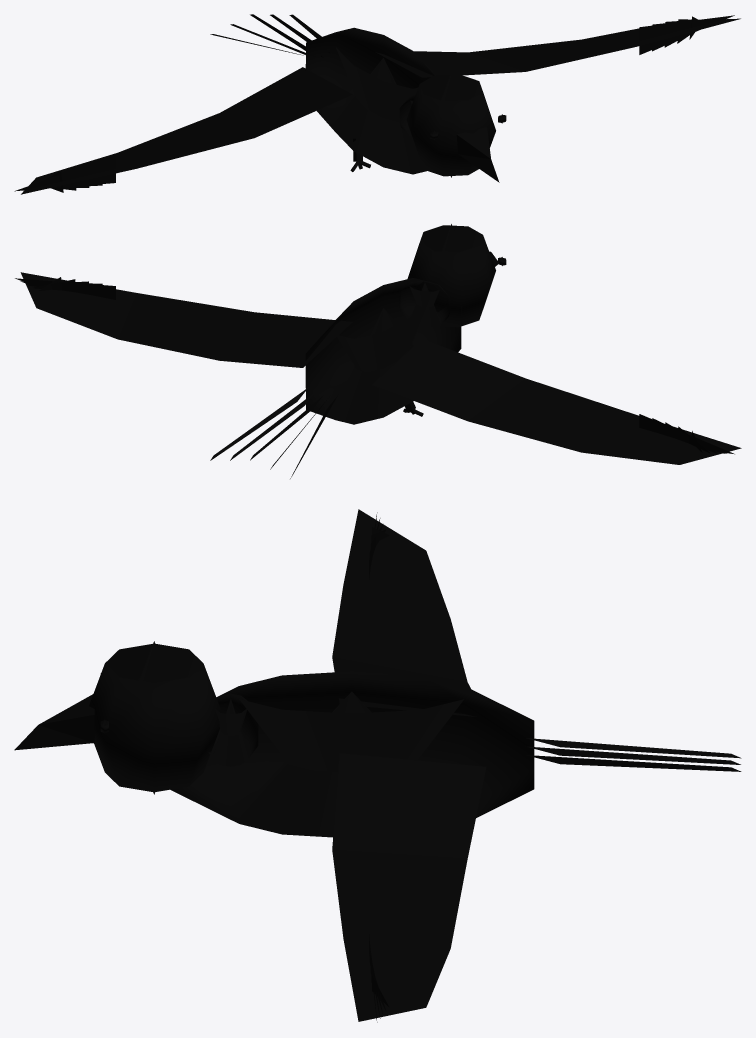
The model's file is gliding_01.glb.
3 renders of one model, top to bottom at view 1: azimuth 30°, elevation 25°; view 2: azimuth 150°, elevation 25°; view 3: azimuth 270°, elevation 25°, orthographic. The views are drawn at different scales.
Visible parts, largest first — view 1: RaptorBody; view 2: RaptorBody; view 3: RaptorBody.
Boxes of the visible parts, x1,y1,x2,y2 form: RaptorBody: [14, 14, 740, 194]; RaptorBody: [15, 224, 741, 478]; RaptorBody: [14, 509, 741, 1022].
Size of the model in its own units: 2.71 by 0.5046 by 1.62.
7 materials, 7 textured.
